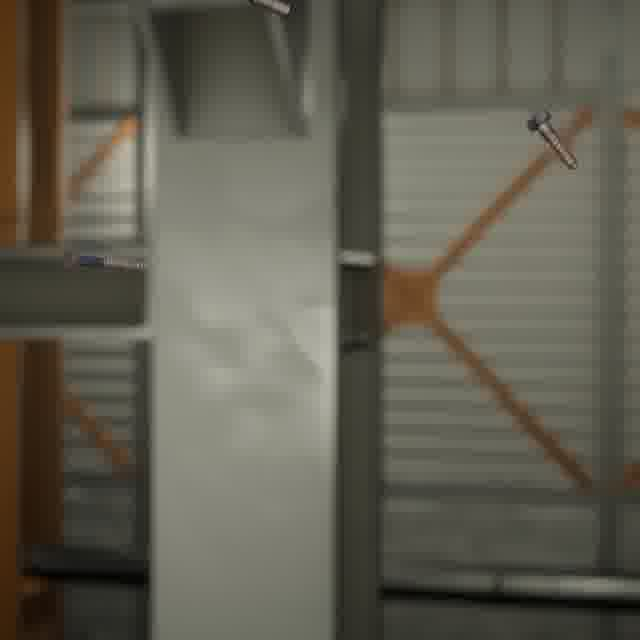bolt: (521, 105, 582, 173), (57, 244, 150, 274), (239, 0, 296, 22)
